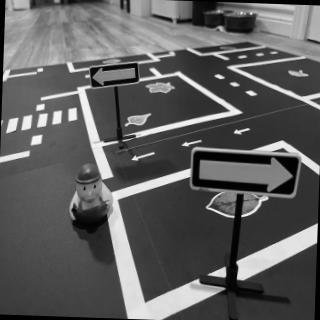duck_specialty: (71, 164, 115, 223)
road_crosswalk: (3, 103, 82, 141)
road_oneway: (129, 148, 160, 166), (181, 136, 206, 154), (231, 124, 254, 140)
sign_oneway_left: (91, 60, 142, 91)
sign_oneway_right: (191, 149, 304, 201)
